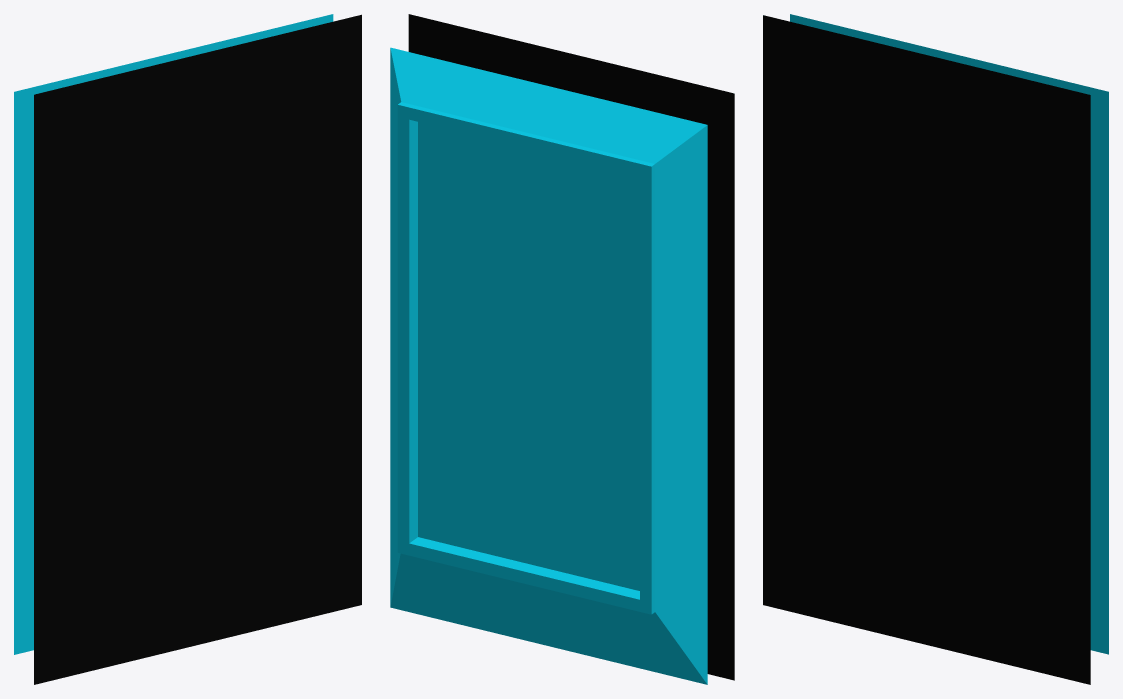
The model's file is IpadRaro.FBX.
The picture shows the model from 3 angles, left to right: view 1: azimuth 30°, elevation 25°; view 2: azimuth 150°, elevation 25°; view 3: azimuth 330°, elevation 25°; orthographic projection.
Parts seen in each view (by area): view 1: ICoso; view 2: ICoso; view 3: ICoso.
Part boxes in pixels (<box>): ICoso: <box>14,14,361,684</box>; ICoso: <box>390,14,734,684</box>; ICoso: <box>763,14,1108,684</box>.
Bounding box in the file's own units: 28.17 × 48.49 × 7.16.
